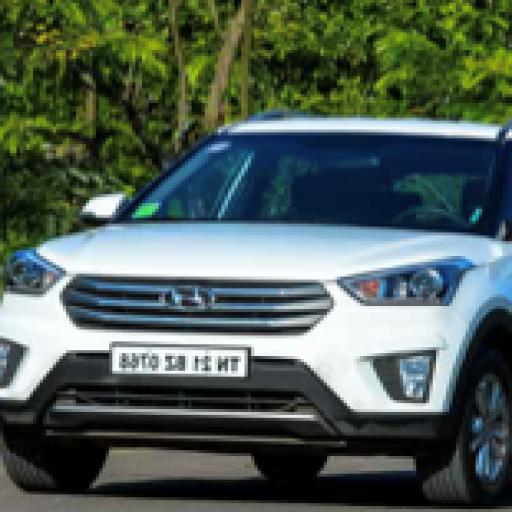License: (116, 338, 254, 374)
